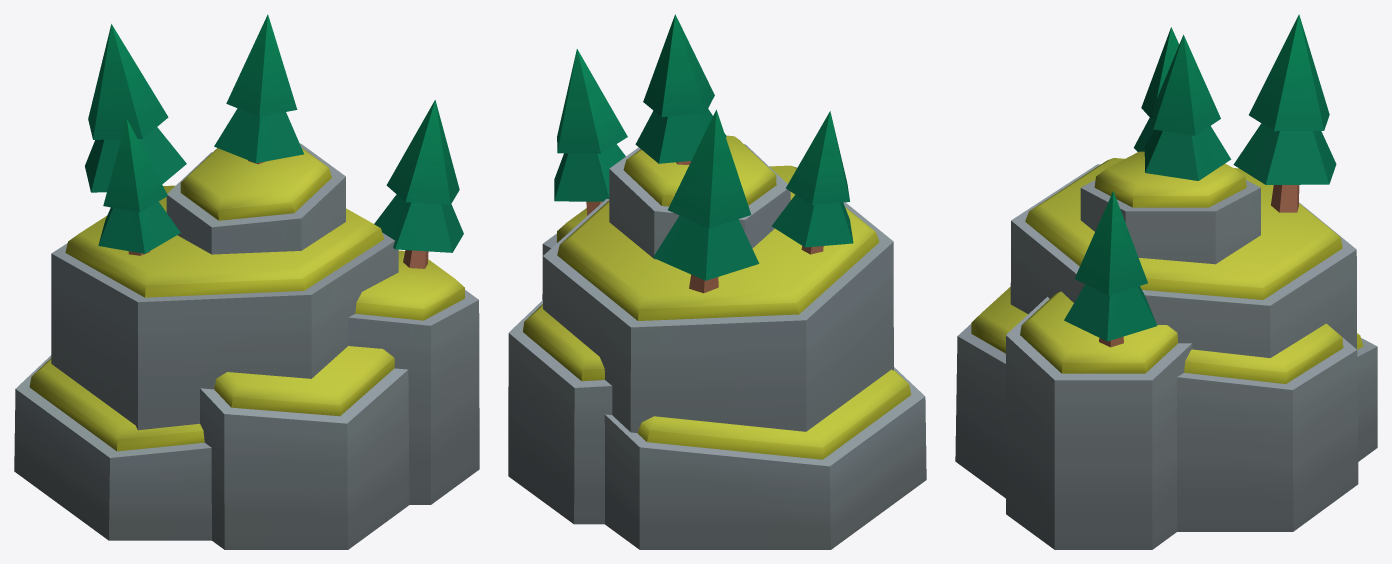
The model's file is kay-montanha-verde.gltf.
The picture shows the model from 3 angles, left to right: view 1: azimuth 30°, elevation 25°; view 2: azimuth 150°, elevation 25°; view 3: azimuth 270°, elevation 25°; orthographic projection.
Visible parts, largest first — view 1: mountain_A_grass_trees; view 2: mountain_A_grass_trees; view 3: mountain_A_grass_trees.
Part boxes in pixels (<box>): mountain_A_grass_trees: <box>14,14,479,549</box>; mountain_A_grass_trees: <box>508,14,926,549</box>; mountain_A_grass_trees: <box>955,14,1377,549</box>.
Bounding box in the file's own units: 9.28 × 10.88 × 9.38.
Materials: 1 (1 with a texture image).
